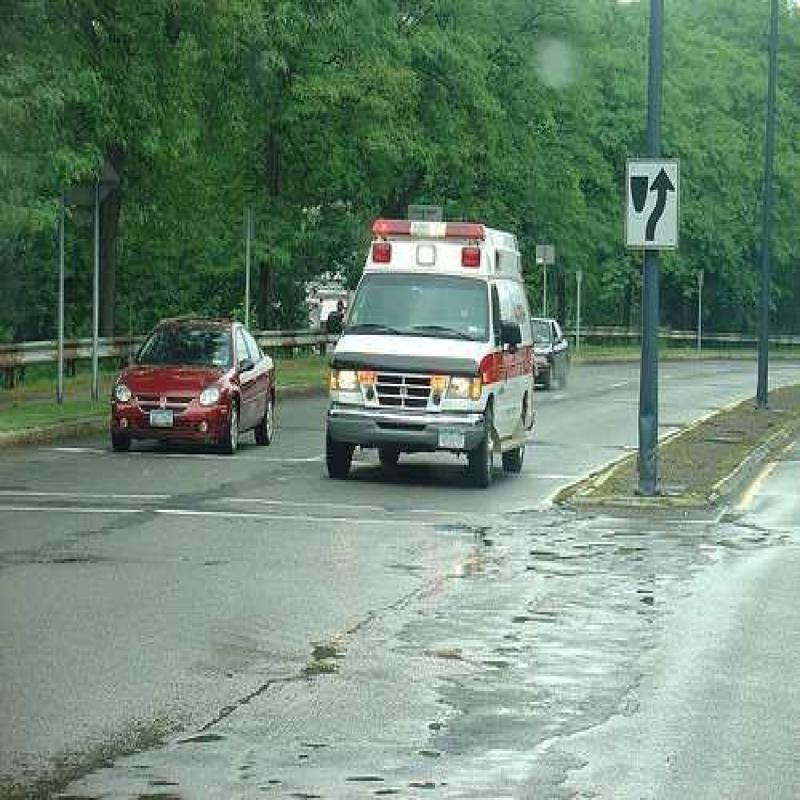AmbulanceSiren: (347, 184, 514, 266)
